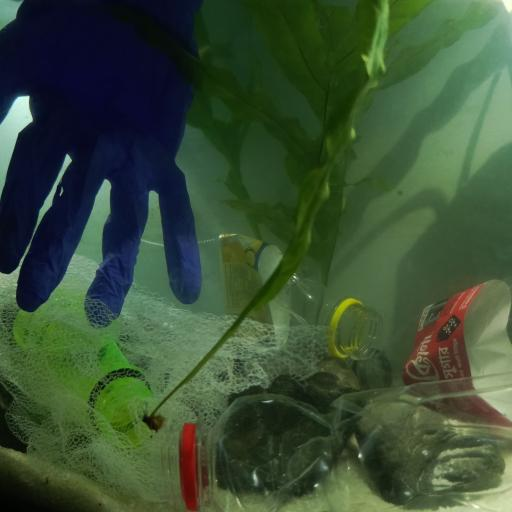glove: (0, 0, 201, 326)
net: (0, 252, 330, 504)
plastic_bottle: (154, 375, 512, 512), (141, 234, 381, 364), (0, 279, 155, 448), (353, 275, 512, 426)
